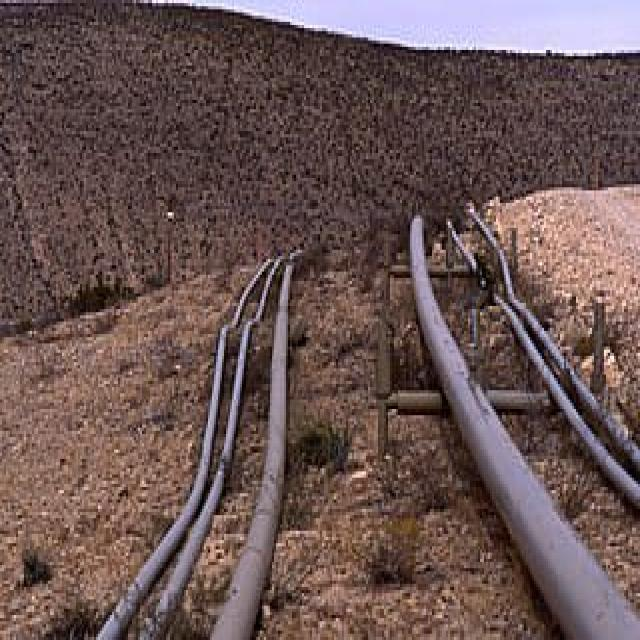gas: (411, 219, 640, 639), (211, 261, 293, 639)
